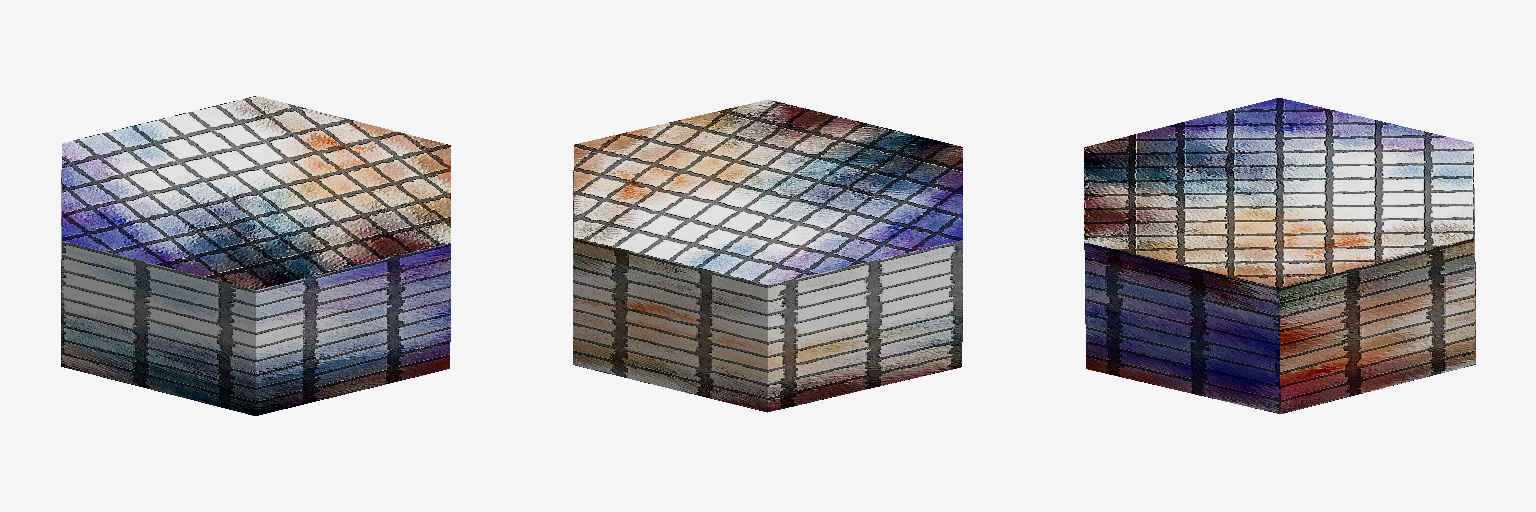
3 renders of one model, left to right at view 1: azimuth 30°, elevation 25°; view 2: azimuth 150°, elevation 25°; view 3: azimuth 270°, elevation 25°, orthographic.
Visible parts, largest first — view 1: �ⶥ_1, ����; view 2: �ⶥ_1, ����; view 3: �ⶥ_1, ����.
Boxes of the visible parts, box(x1,y1,x2,y2) form: �ⶥ_1: box(62, 96, 450, 289); ����: box(61, 170, 450, 415); �ⶥ_1: box(574, 99, 962, 284); ����: box(573, 170, 962, 412); �ⶥ_1: box(1084, 98, 1473, 287); ����: box(1084, 188, 1475, 413).
Size of the model in its own units: 157 by 50.67 by 137.
Materials: 1 (1 with a texture image).